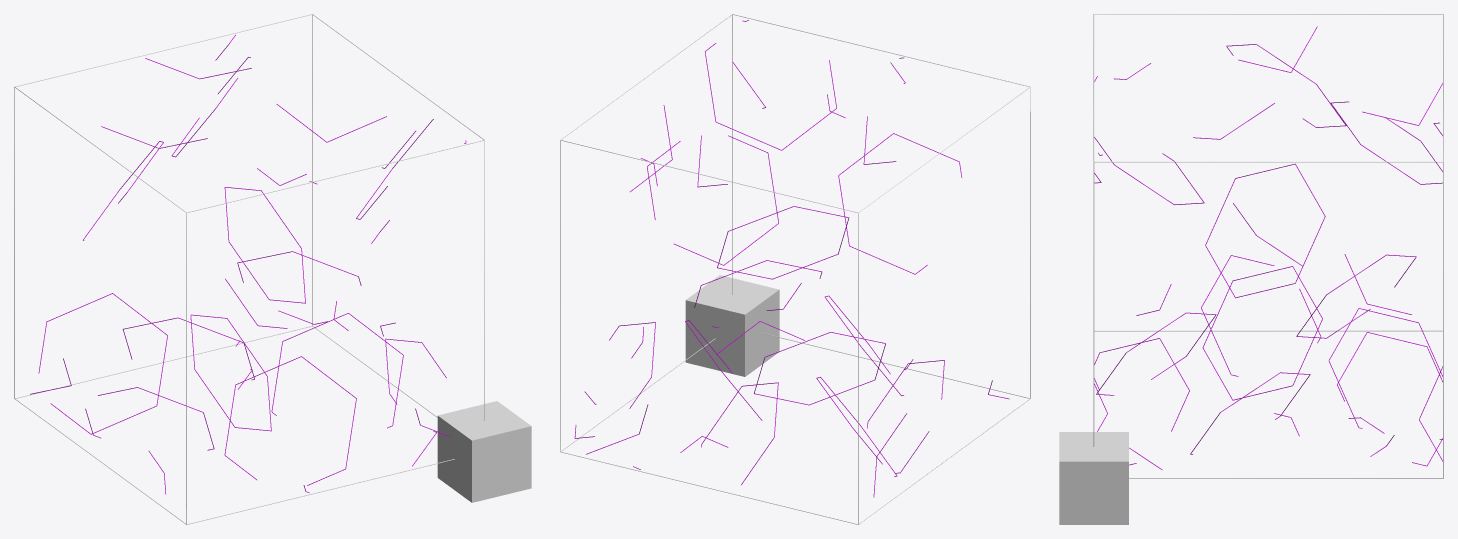
File: ddd000.glb
3 renders of one model, left to right at view 1: azimuth 30°, elevation 25°; view 2: azimuth 150°, elevation 25°; view 3: azimuth 270°, elevation 25°, orthographic.
Visible parts, largest first — view 1: Cube, Shape_IndexedLineSet.001, Shape_IndexedLineSet; view 2: Cube, Shape_IndexedLineSet.001, Shape_IndexedLineSet; view 3: Cube, Shape_IndexedLineSet.001, Shape_IndexedLineSet.
Part boxes in pixels (x1=…): Cube: x1=437, y1=401, x2=531, y2=502; Shape_IndexedLineSet.001: x1=30, y1=34, x2=466, y2=494; Shape_IndexedLineSet: x1=14, y1=14, x2=484, y2=524; Cube: x1=685, y1=275, x2=779, y2=376; Shape_IndexedLineSet.001: x1=574, y1=20, x2=1009, y2=497; Shape_IndexedLineSet: x1=560, y1=14, x2=1030, y2=524; Cube: x1=1059, y1=432, x2=1128, y2=524; Shape_IndexedLineSet.001: x1=1094, y1=26, x2=1442, y2=469; Shape_IndexedLineSet: x1=1093, y1=14, x2=1443, y2=478.
Bounding box in the file's own units: 11.01 × 11.01 × 11.01.
